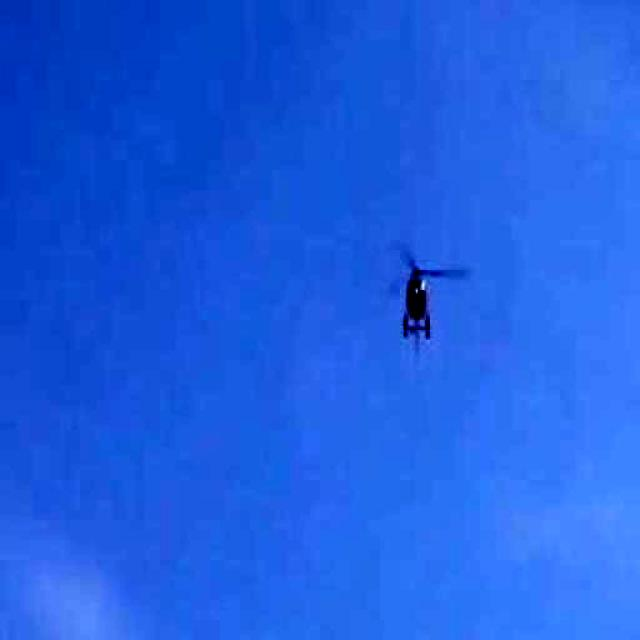drone: (354, 200, 504, 394)
